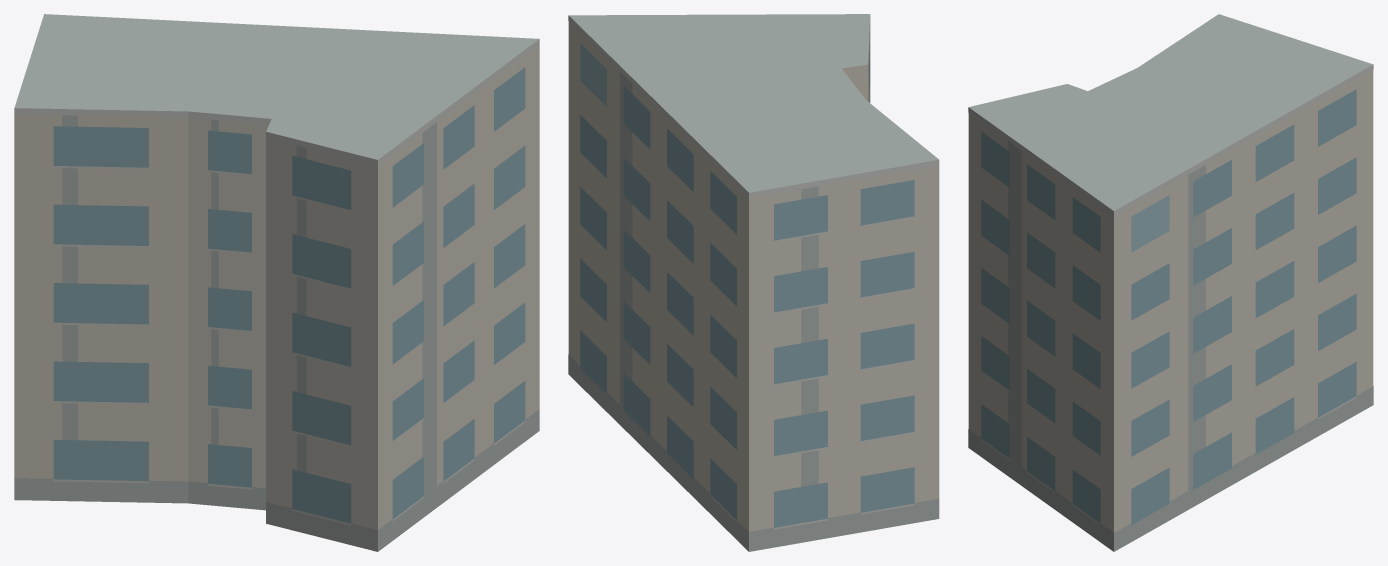
The model's file is survey-upis-32458453.glb.
The picture shows the model from 3 angles, left to right: view 1: azimuth 30°, elevation 25°; view 2: azimuth 150°, elevation 25°; view 3: azimuth 270°, elevation 25°; orthographic projection. The views are drawn at different scales.
Visible parts, largest first — view 1: survey-upis-32458453.tmp; view 2: survey-upis-32458453.tmp; view 3: survey-upis-32458453.tmp.
Part boxes in pixels (x1,y1,x2,y2): survey-upis-32458453.tmp: [14, 14, 539, 551]; survey-upis-32458453.tmp: [568, 14, 939, 551]; survey-upis-32458453.tmp: [968, 14, 1373, 551].
Size of the model in its own units: 18.94 by 15.25 by 16.44.
